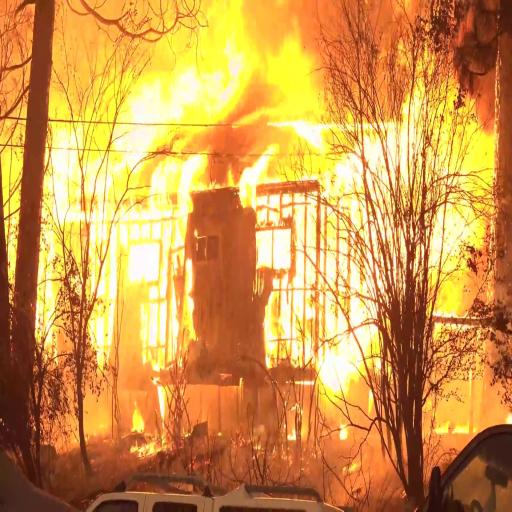fire: (271, 35, 315, 113)
